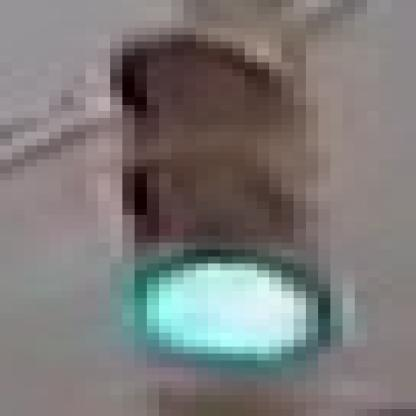Green Light: (113, 30, 351, 382)
